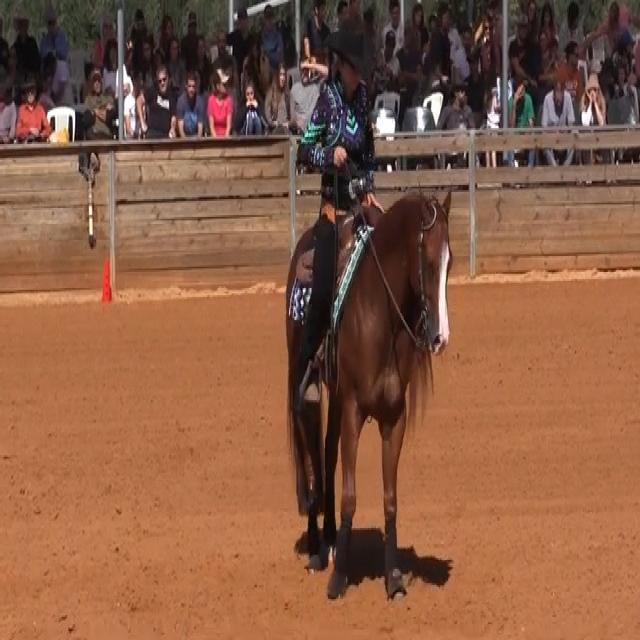horse: (282, 183, 454, 601)
